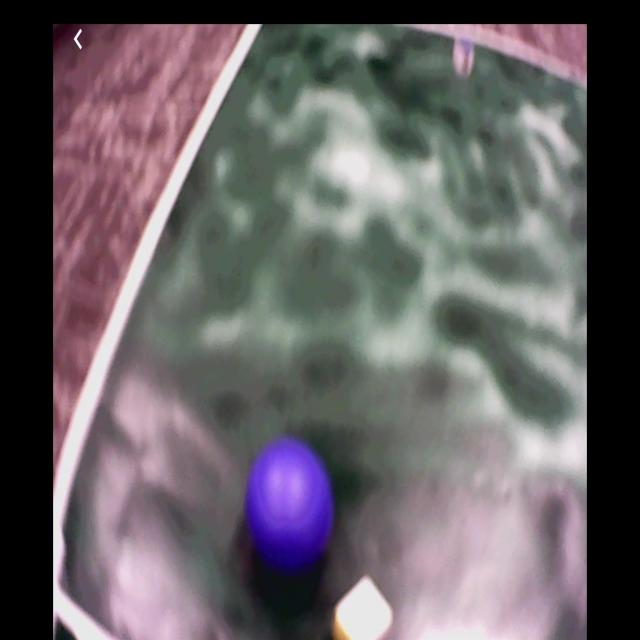ball: (248, 440, 332, 570)
